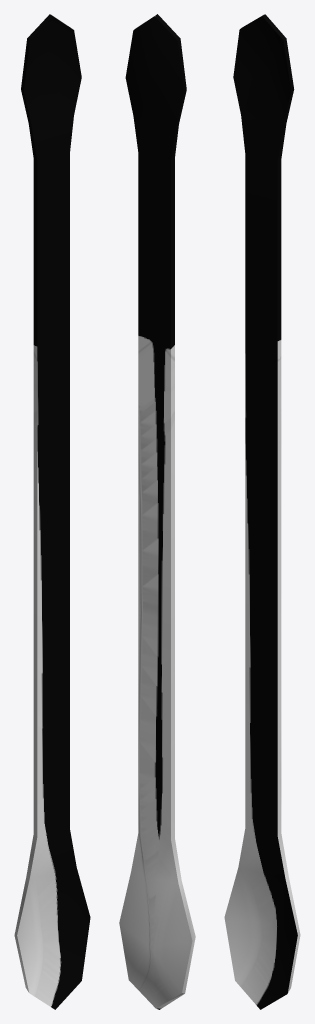
File: Spatula_Dble_Spoon_S1_Colldr.fbx
The picture shows the model from 3 angles, left to right: view 1: azimuth 30°, elevation 25°; view 2: azimuth 150°, elevation 25°; view 3: azimuth 330°, elevation 25°; orthographic projection.
Parts seen in each view (by area): view 1: Spatula_Dble_Spoon_1_Colldr; view 2: Spatula_Dble_Spoon_1_Colldr; view 3: Spatula_Dble_Spoon_1_Colldr.
Part boxes in pixels (left/top/right/bottom): Spatula_Dble_Spoon_1_Colldr: left=14, top=14, right=90, bottom=1009; Spatula_Dble_Spoon_1_Colldr: left=119, top=14, right=195, bottom=1009; Spatula_Dble_Spoon_1_Colldr: left=224, top=14, right=300, bottom=1009.
Size of the model in its own units: 1.69 by 21.87 by 0.4031.
